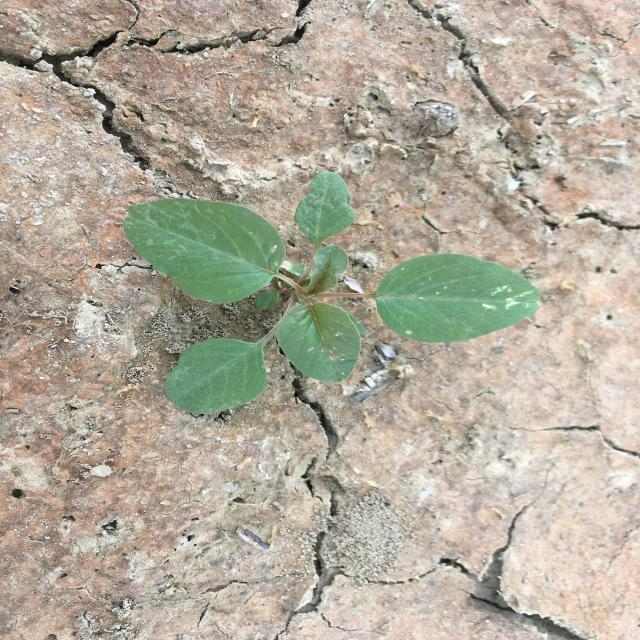PalmerAmaranth: (123, 172, 541, 413)
